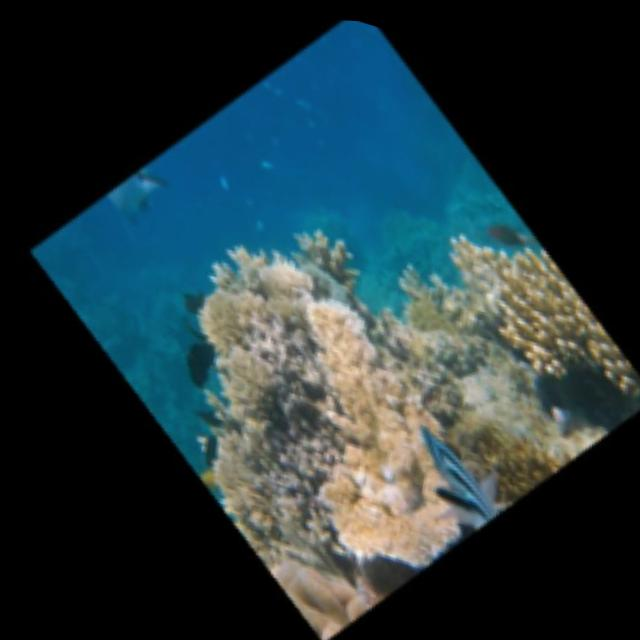Dead Coral: (422, 366, 566, 514)
